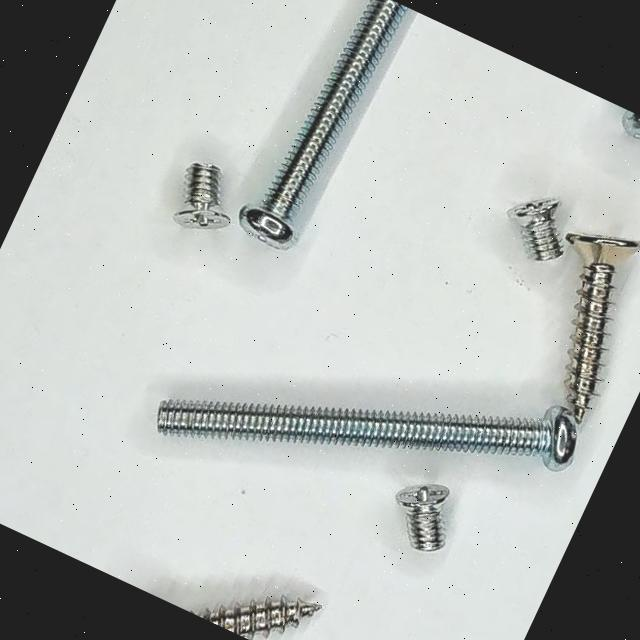Screw: (239, 0, 407, 249), (157, 400, 578, 472), (566, 233, 640, 425), (192, 598, 321, 640), (172, 162, 230, 229), (396, 486, 451, 553), (508, 200, 564, 262), (623, 111, 640, 138)
